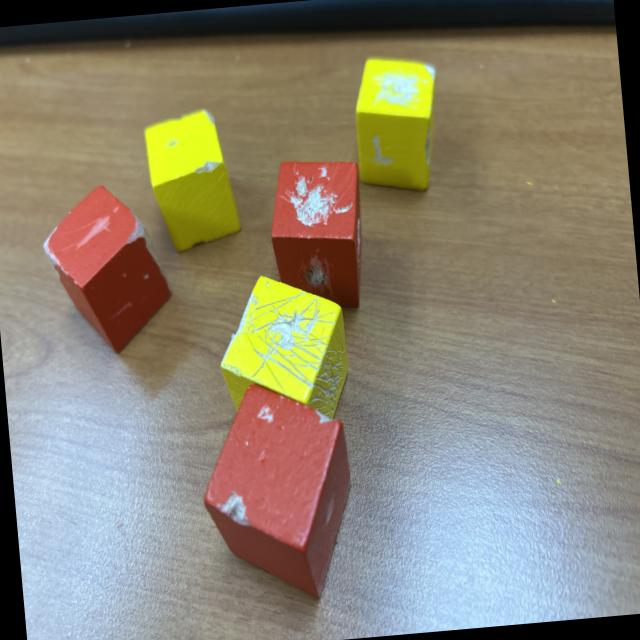broken: (193, 377, 362, 610), (39, 178, 178, 360), (212, 268, 354, 431), (264, 154, 370, 316), (140, 107, 245, 256), (346, 51, 446, 197)
